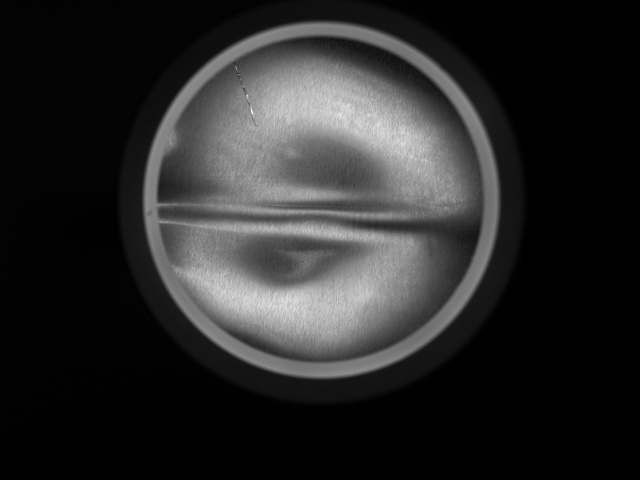ca_shang: (228, 59, 262, 128)
zhe_zhou: (208, 62, 439, 335)
